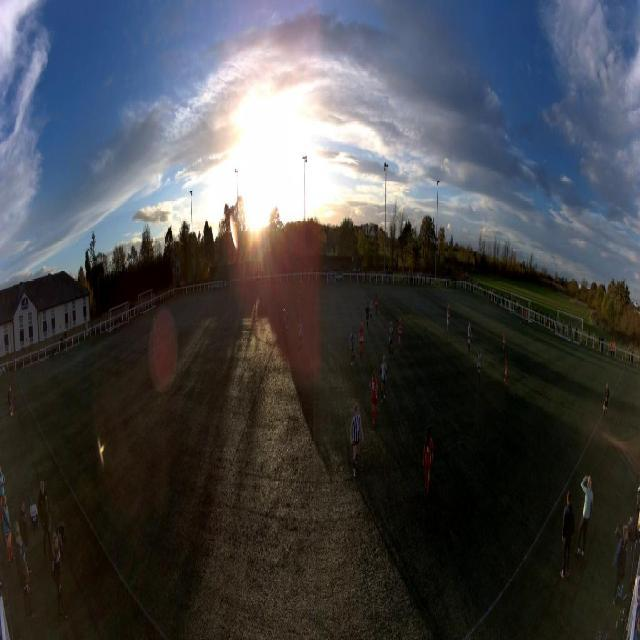ball: (520, 320, 521, 324)
player: (349, 403, 364, 479), (421, 431, 434, 488), (370, 372, 379, 421), (380, 355, 387, 402), (350, 328, 357, 366), (358, 322, 364, 360), (298, 317, 304, 354), (477, 349, 483, 385), (389, 322, 394, 358), (398, 318, 403, 350), (504, 355, 508, 393), (365, 303, 370, 328), (468, 322, 472, 352), (286, 312, 290, 341), (502, 328, 506, 356), (282, 308, 286, 336), (369, 295, 373, 321), (153, 314, 157, 338), (374, 294, 378, 316), (447, 304, 450, 331), (296, 297, 300, 317), (523, 308, 526, 324)
